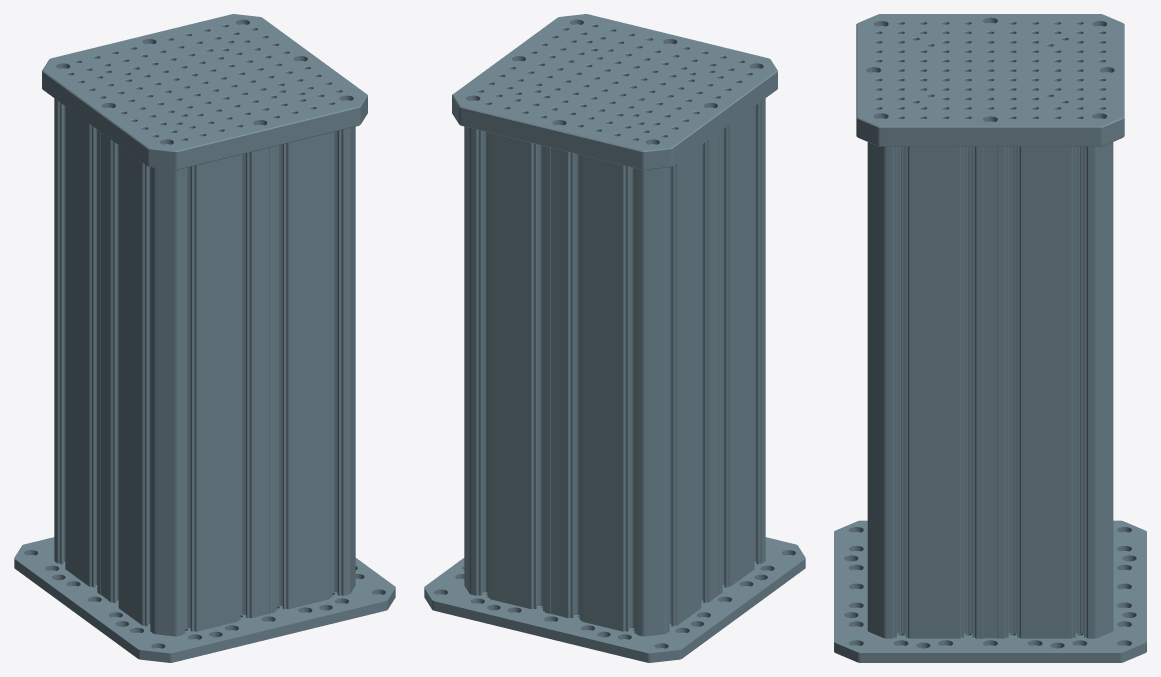
File: za6_pedestal.dae
3 renders of one model, left to right at view 1: azimuth 30°, elevation 25°; view 2: azimuth 150°, elevation 25°; view 3: azimuth 270°, elevation 25°, orthographic. The views are drawn at different scales.
Parts seen in each view (by area): view 1: za_pedestal; view 2: za_pedestal; view 3: za_pedestal.
Part boxes in pixels (x1,y1,x2,y2): za_pedestal: (14,14,395,662); za_pedestal: (424,14,805,662); za_pedestal: (834,14,1146,662).
Size of the model in its own units: 0.315 by 0.315 by 0.585.
